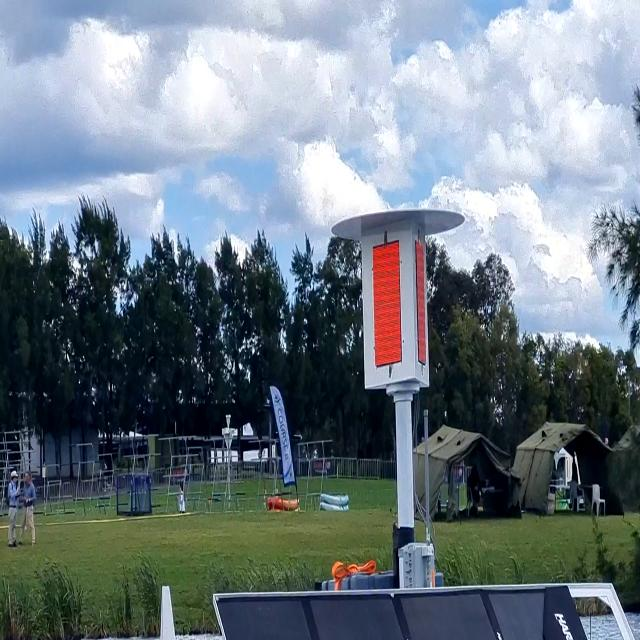led: (365, 233, 410, 374)
